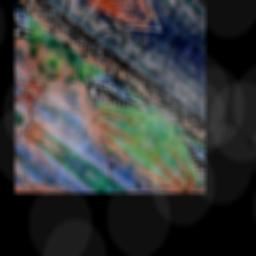Woodpecker: (73, 51, 160, 134)
